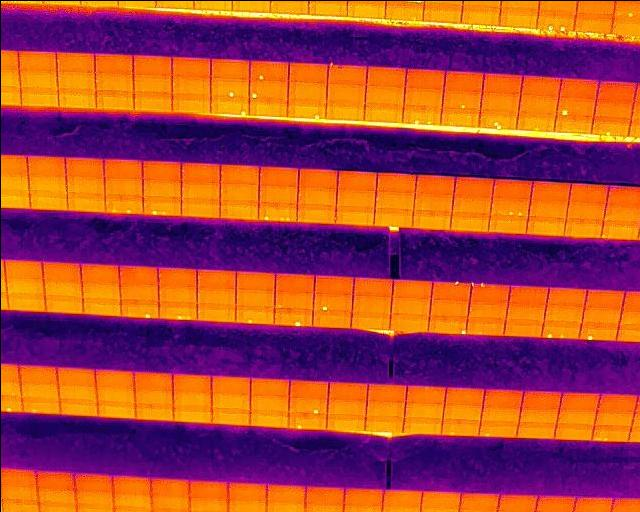Cell: (249, 60, 288, 81), (274, 308, 313, 327), (555, 98, 596, 116), (431, 281, 470, 299), (313, 293, 352, 311), (427, 315, 466, 333), (209, 79, 248, 97), (235, 306, 273, 324), (593, 116, 630, 134), (210, 97, 249, 114), (22, 396, 61, 413), (248, 81, 287, 98), (442, 91, 481, 108), (578, 324, 617, 340), (478, 420, 517, 436), (287, 101, 325, 117), (288, 397, 326, 413), (121, 302, 158, 318), (440, 420, 479, 435), (288, 413, 326, 428)
Cell-Multi: (537, 10, 574, 30), (402, 105, 441, 123), (142, 196, 181, 214), (490, 197, 529, 215), (258, 203, 296, 221), (470, 283, 508, 301), (541, 321, 579, 339), (590, 425, 631, 441), (105, 195, 143, 212), (157, 302, 196, 318), (478, 111, 516, 127)
No-Anomaly: (297, 167, 337, 188), (366, 65, 405, 86), (327, 63, 367, 83), (443, 71, 483, 91), (18, 49, 56, 70), (142, 159, 181, 179), (337, 170, 376, 190), (235, 270, 274, 290), (6, 291, 45, 311), (56, 52, 95, 72), (210, 59, 249, 79), (266, 485, 305, 505), (304, 486, 343, 506), (507, 284, 548, 303), (570, 182, 607, 203), (181, 161, 219, 181), (259, 166, 297, 186), (453, 176, 493, 195), (288, 81, 326, 101), (325, 83, 365, 102), (558, 79, 598, 98), (94, 52, 132, 72), (220, 164, 259, 183), (376, 172, 415, 191), (530, 180, 569, 199), (573, 11, 612, 30), (219, 200, 258, 219), (600, 220, 639, 239), (196, 269, 235, 288), (353, 277, 392, 296), (19, 87, 58, 106), (18, 70, 57, 89), (171, 58, 210, 77), (133, 73, 172, 92), (492, 178, 529, 198), (406, 69, 443, 89), (458, 494, 499, 512), (518, 94, 556, 113), (461, 4, 499, 23), (498, 7, 536, 26), (415, 174, 453, 193), (67, 192, 105, 211), (564, 218, 602, 237), (44, 294, 82, 313), (289, 378, 327, 397), (288, 63, 326, 82), (189, 480, 227, 499), (0, 487, 38, 506), (171, 76, 209, 95), (593, 98, 633, 116), (390, 297, 430, 315), (597, 394, 637, 412), (596, 80, 636, 98), (496, 494, 536, 512), (521, 390, 563, 407), (423, 1, 460, 20), (386, 1, 423, 20), (483, 75, 520, 94), (133, 92, 172, 110), (66, 174, 105, 192), (526, 216, 565, 234), (119, 266, 158, 284), (275, 275, 314, 293), (314, 276, 353, 294), (392, 279, 431, 297), (81, 280, 120, 298), (352, 295, 391, 313), (430, 298, 469, 316), (196, 303, 235, 321), (581, 306, 620, 324), (350, 311, 389, 329), (211, 374, 250, 392), (250, 376, 289, 394), (366, 382, 405, 400), (482, 389, 521, 407), (365, 86, 404, 104), (133, 55, 172, 73), (73, 474, 112, 492), (112, 476, 151, 494), (520, 77, 559, 95), (479, 93, 520, 110), (381, 490, 422, 507), (419, 491, 460, 508), (514, 420, 555, 437), (364, 104, 402, 122), (27, 156, 65, 174), (104, 159, 142, 177), (104, 177, 142, 195), (142, 178, 180, 196), (414, 193, 452, 211), (412, 210, 450, 228), (157, 267, 195, 285), (120, 285, 158, 303), (468, 300, 506, 318), (506, 303, 544, 321), (544, 304, 582, 322), (312, 310, 350, 328), (173, 373, 211, 391), (404, 87, 442, 105), (58, 89, 96, 107), (36, 489, 74, 507), (227, 484, 265, 502), (94, 73, 132, 91), (336, 190, 376, 207), (296, 206, 336, 223), (80, 263, 120, 280), (95, 91, 132, 109), (30, 191, 67, 209), (603, 203, 640, 221), (548, 286, 585, 304), (585, 289, 622, 307), (180, 182, 219, 199), (219, 183, 258, 200), (258, 185, 297, 202), (375, 191, 414, 208), (180, 199, 219, 216), (529, 199, 568, 216), (450, 212, 489, 229), (4, 259, 43, 276), (42, 277, 81, 294), (158, 286, 197, 303), (82, 298, 121, 315), (19, 365, 58, 382), (327, 381, 366, 398), (250, 394, 289, 411), (343, 488, 382, 505), (112, 494, 151, 511), (35, 472, 74, 489), (151, 478, 190, 495), (606, 184, 639, 204), (172, 95, 210, 112), (249, 99, 287, 116), (326, 102, 364, 119), (65, 157, 103, 174), (28, 174, 66, 191), (452, 195, 490, 212), (566, 202, 604, 219), (335, 207, 373, 224), (489, 215, 527, 232), (560, 391, 598, 408), (98, 401, 136, 418), (75, 492, 113, 509), (57, 72, 95, 89), (533, 497, 576, 512), (440, 108, 480, 124), (326, 398, 366, 414), (518, 406, 558, 422), (365, 400, 405, 416), (467, 318, 504, 335), (58, 367, 95, 384), (347, 0, 384, 17), (297, 189, 336, 205), (374, 209, 413, 225), (389, 314, 428, 330), (95, 370, 134, 386), (134, 373, 173, 389), (20, 382, 59, 398), (96, 386, 135, 402), (405, 386, 444, 402), (211, 392, 250, 408), (59, 399, 98, 415), (442, 403, 481, 419), (150, 496, 189, 512), (211, 409, 250, 425), (593, 410, 632, 426), (250, 411, 289, 427), (572, 497, 613, 512), (554, 116, 592, 132), (42, 261, 80, 277), (503, 320, 541, 336), (445, 387, 483, 403), (554, 423, 592, 439), (326, 414, 364, 430), (173, 405, 211, 421), (557, 408, 594, 424), (136, 404, 173, 420), (0, 471, 37, 487), (516, 113, 555, 128), (5, 276, 44, 291), (196, 288, 235, 303), (235, 290, 274, 305), (57, 384, 96, 399), (402, 418, 441, 433), (405, 402, 444, 417), (135, 389, 173, 404), (173, 390, 211, 405), (363, 416, 403, 430), (274, 293, 313, 307), (481, 406, 520, 420)
